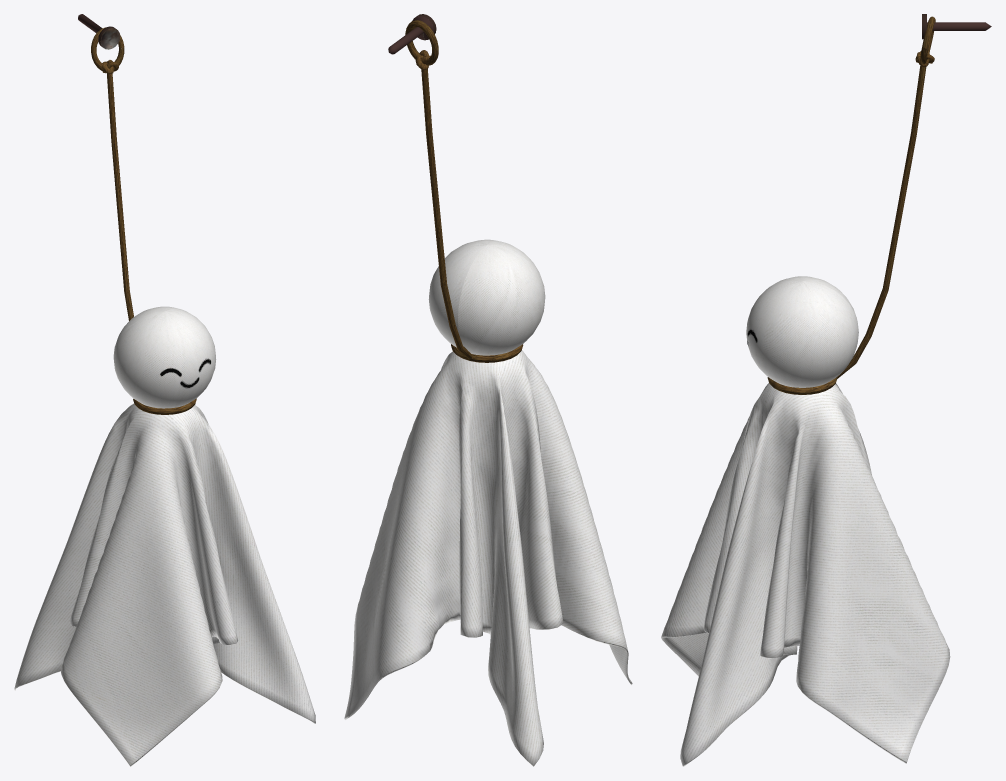
File: TeruTeruBozu1.a.fbx
3 renders of one model, left to right at view 1: azimuth 30°, elevation 25°; view 2: azimuth 150°, elevation 25°; view 3: azimuth 270°, elevation 25°, orthographic. The views are drawn at different scales.
Visible parts, largest first — view 1: Group 0; view 2: Group 0; view 3: Group 0.
Boxes of the visible parts, <box> form: Group 0: <box>14,14,315,766</box>; Group 0: <box>344,14,632,766</box>; Group 0: <box>661,14,991,766</box>.
Size of the model in its own units: 16.47 by 47.04 by 19.94.
Materials: 1 (1 with a texture image).
